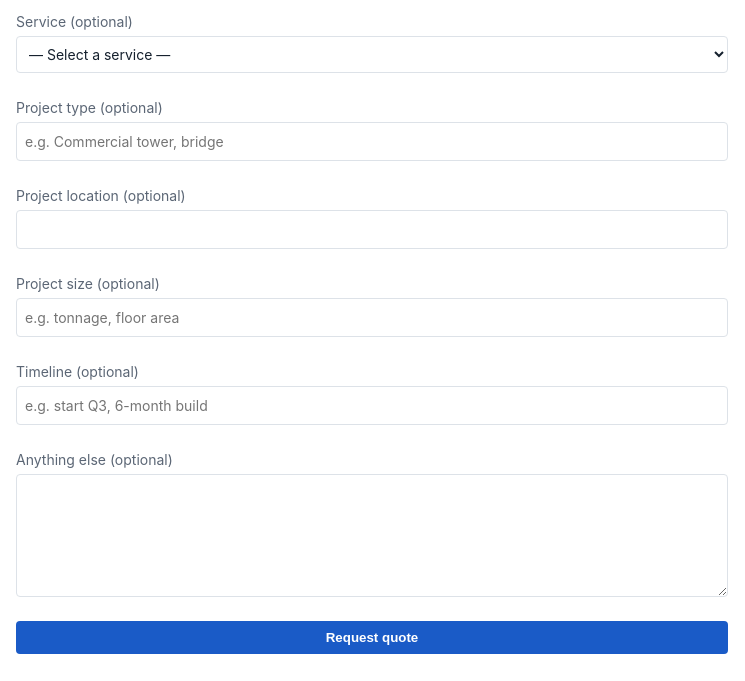
Test case: RequestQuotePage › requires name and a valid email
The image size is (745, 681).
(page scrolled)
Click the button "Request quote" at [372, 638], box [16,621,728,654]
(page scrolled)
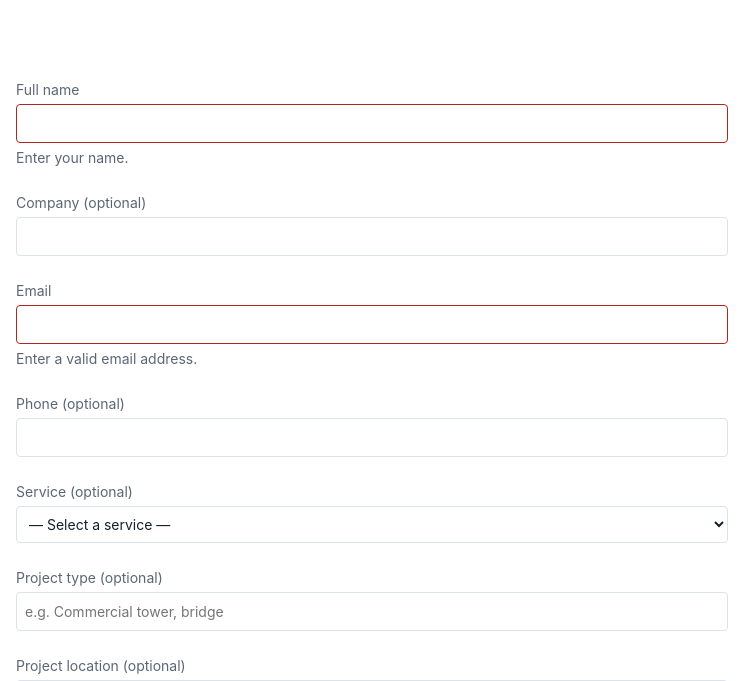
Expected: the text "Enter your name." is shown, [16,149,129,166]
Expected: the text "Enter a valid email address." is shown, [16,350,197,367]
